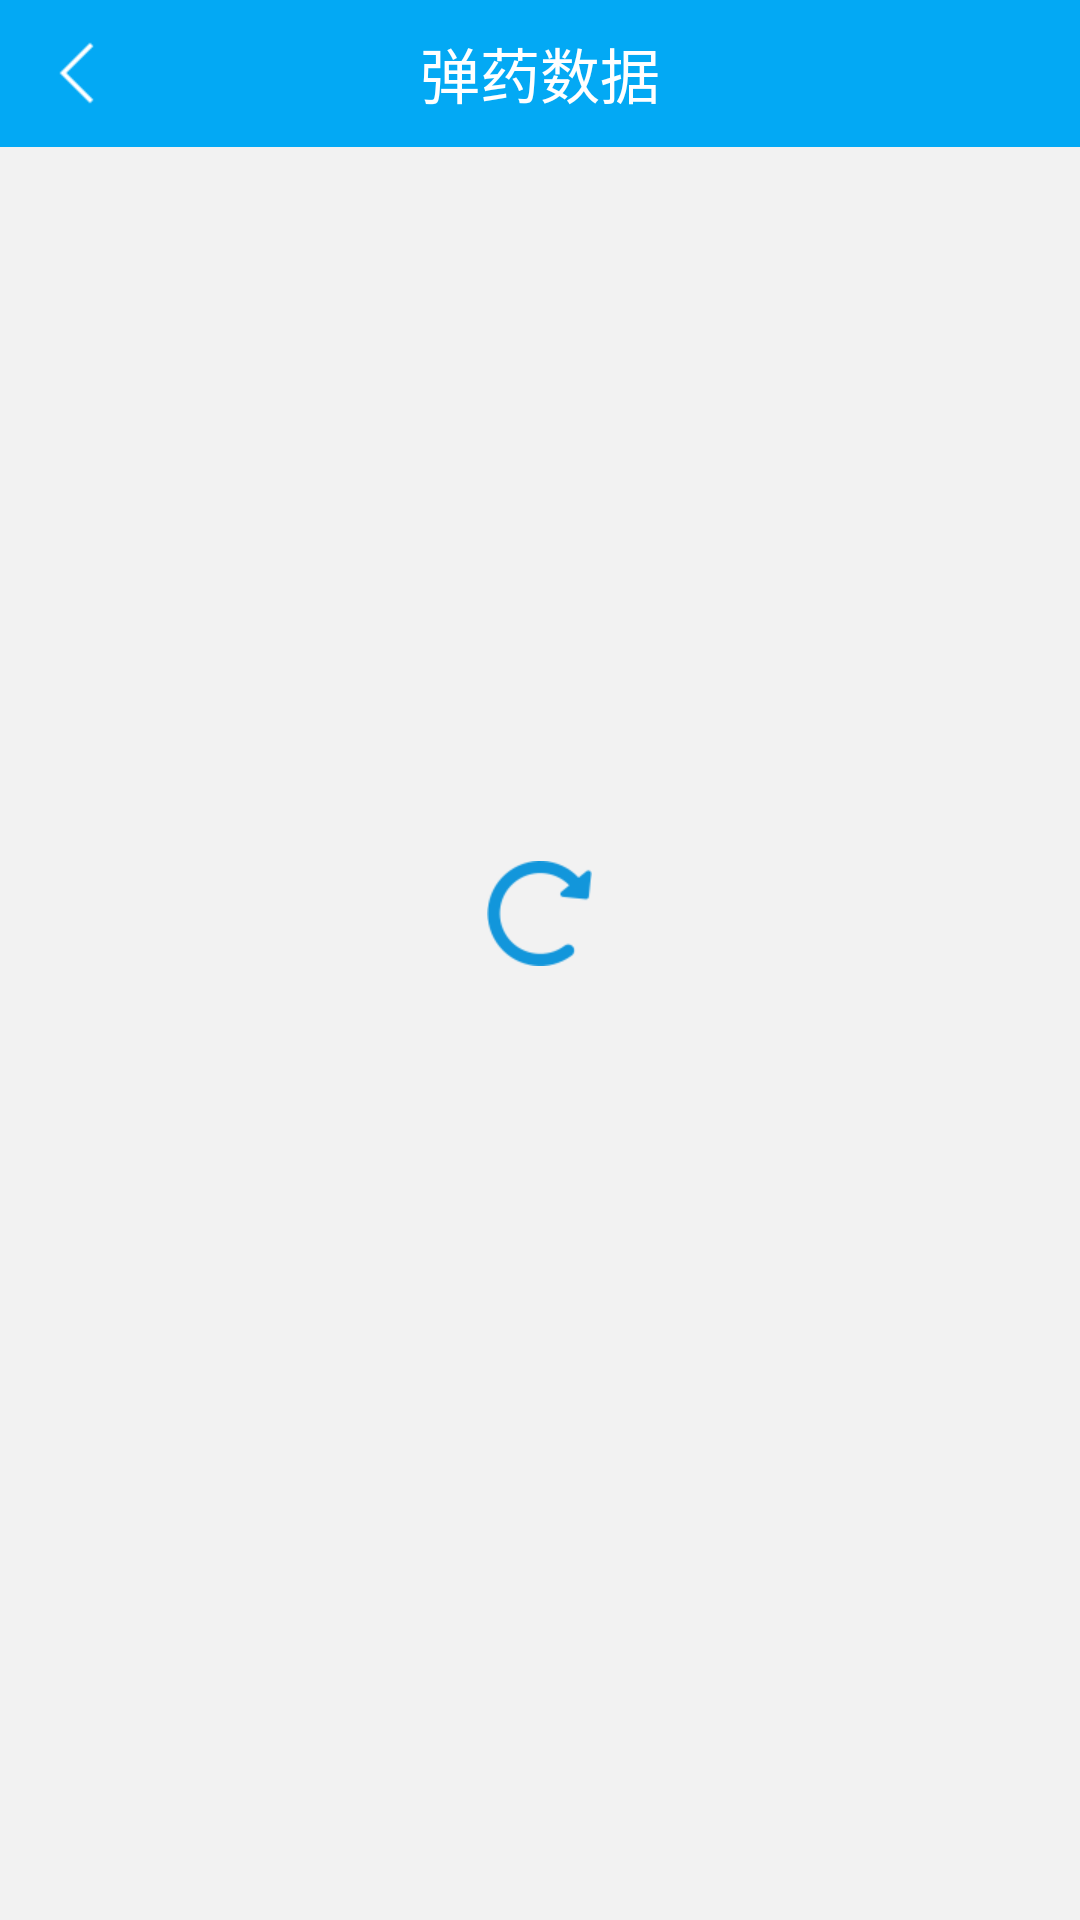

Locate icon controls on the screen. Image size 1080 × 1920, boxes as [x1=x1, y1=y1, x2=x2, y2=y2].
back: [x1=59, y1=43, x2=94, y2=103]
